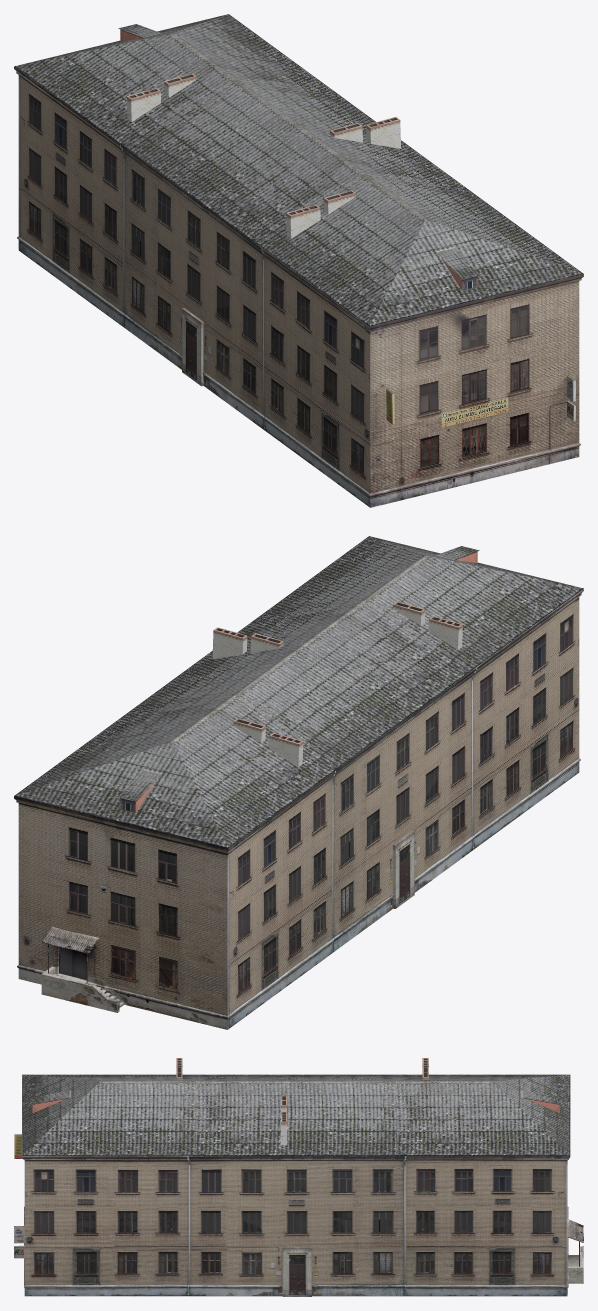
Rendered from panelka4.glb.
3 views of the same model, one above another, from view 1: azimuth 30°, elevation 25°; view 2: azimuth 150°, elevation 25°; view 3: azimuth 270°, elevation 25° (orthographic). The views are drawn at different scales.
Visible parts, largest first — view 1: stalinka1_1, stalinka1_extras_0; view 2: stalinka1_1; view 3: stalinka1_1, stalinka1_extras_0.
Part boxes in pixels (x1,y1,x2,y2): stalinka1_1: (14,14,583,507); stalinka1_extras_0: (386,375,575,427); stalinka1_1: (14,536,583,1029); stalinka1_1: (22,1058,583,1296); stalinka1_extras_0: (14,1134,24,1258).
Size of the model in its own units: 11.59 by 11.72 by 34.5.
11 materials, 8 textured.
